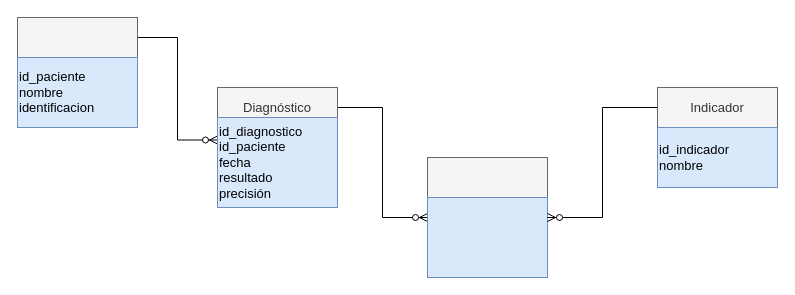
The diagram is 795 pixels wide and 295 high, and some of its shapes have lost their labels. Each missing label, with the centre of its shape:
"id_indicador_detalle id_diagnostico id_indicador valor" belongs at (x=487, y=237).
"Indicador Detalle" belongs at (x=487, y=177).
"Paciente" belongs at (x=77, y=37).
